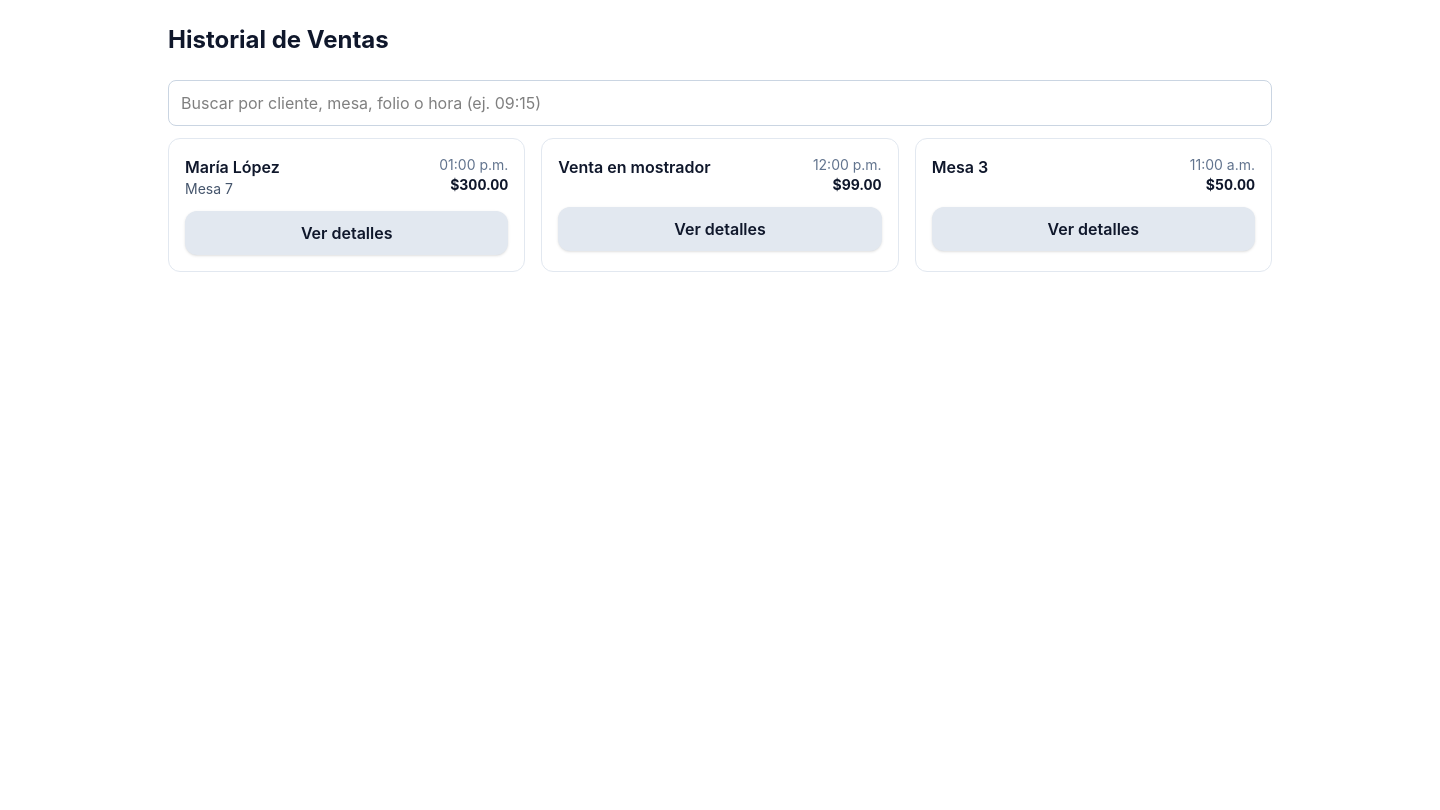
Test: ReturnsPage › opens a modal with all sale details and closes it
Click the button "Ver detalles" below "Mesa 7".
click(347, 233)  # box top-left (185, 211), bottom-right (508, 255)
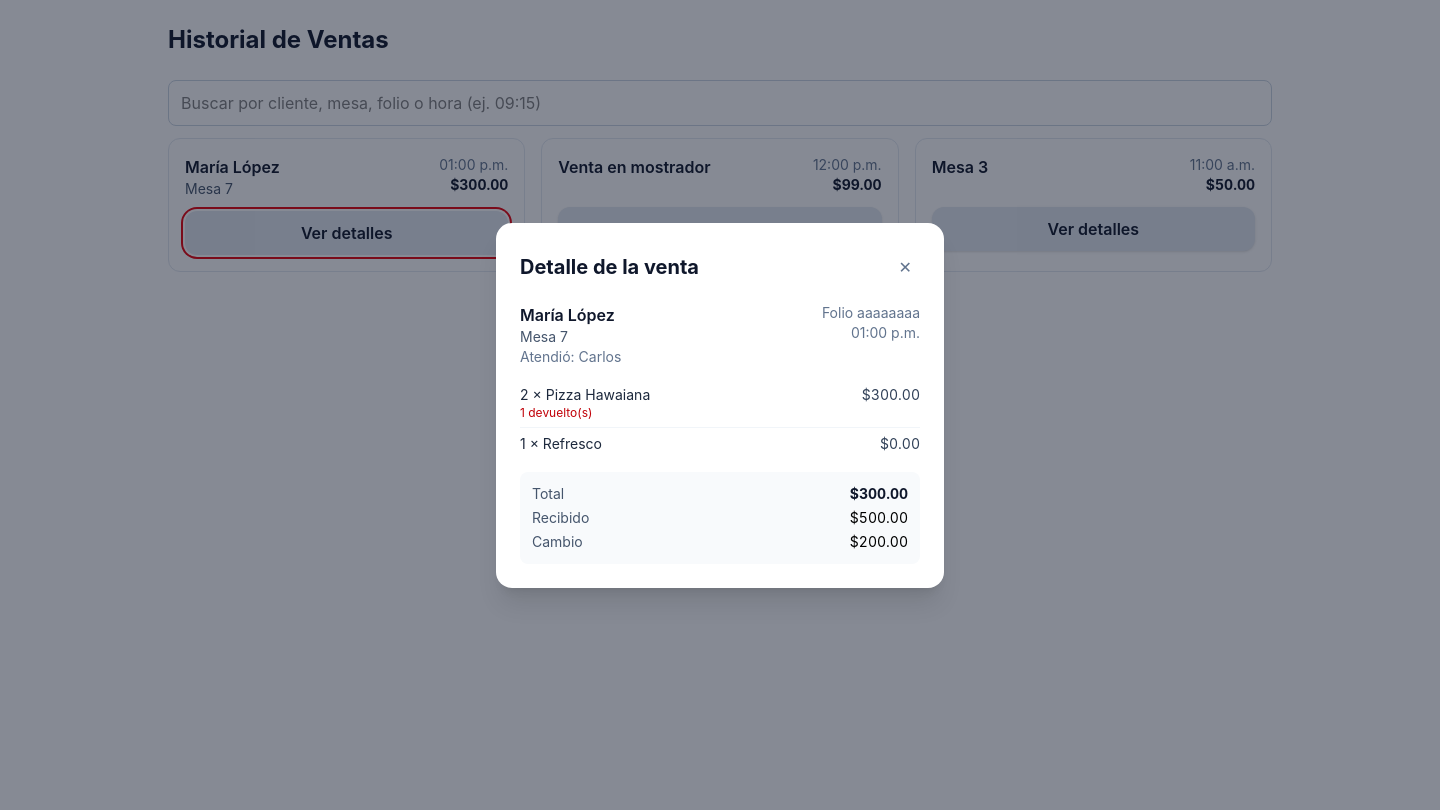
Now the text "María López" is shown, box top-left (520, 302), bottom-right (621, 326)
Now the text "Mesa 7" is shown, box top-left (520, 328), bottom-right (568, 344)
Now the text "Atendió: Carlos" is shown, box top-left (520, 346), bottom-right (621, 366)
Click the button named "Cerrar".
click(905, 266)  # box top-left (891, 246), bottom-right (920, 286)
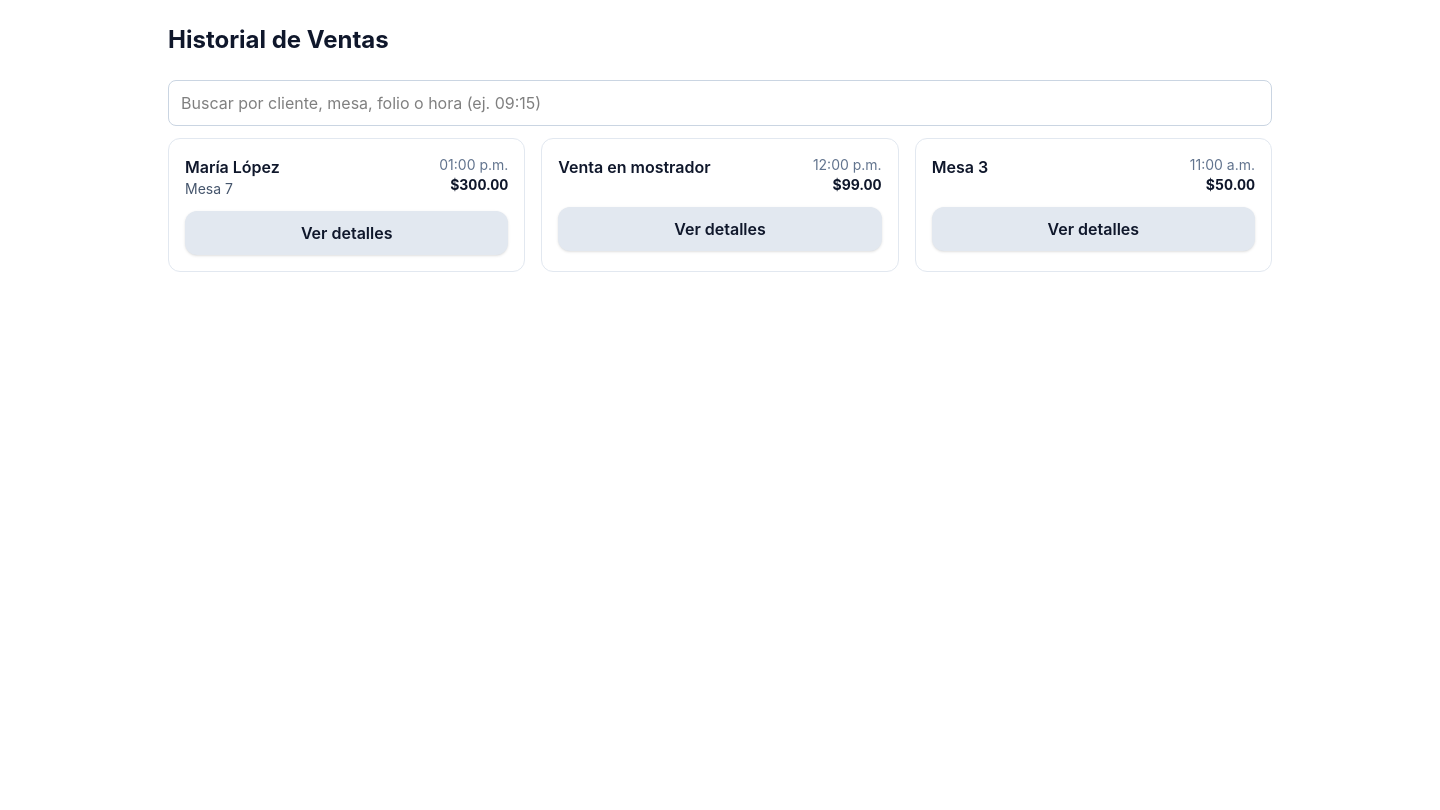
Now the dialog is gone
